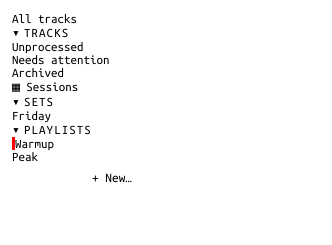
unified create popup (gh#174) › picking Set expands the section and opens the inline name form
Click the button "▾ Sets": (33, 102) left=12, top=95, right=54, bottom=108
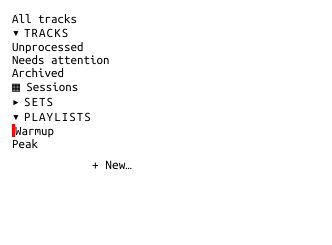
Click the button "+ New…": (112, 164) left=20, top=158, right=204, bottom=171
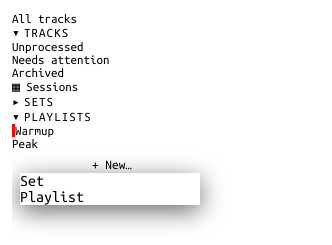
Click the menu item with class "context-menu-item" showing "Set": (32, 181) left=20, top=173, right=44, bottom=189
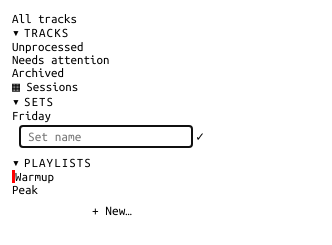
Now the field with placeholder "Set name" is shown, box left=20, top=126, right=192, bottom=147
